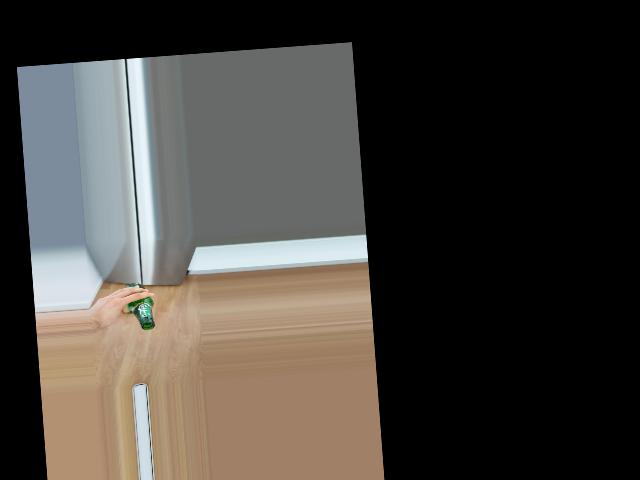beer: (125, 282, 155, 331)
